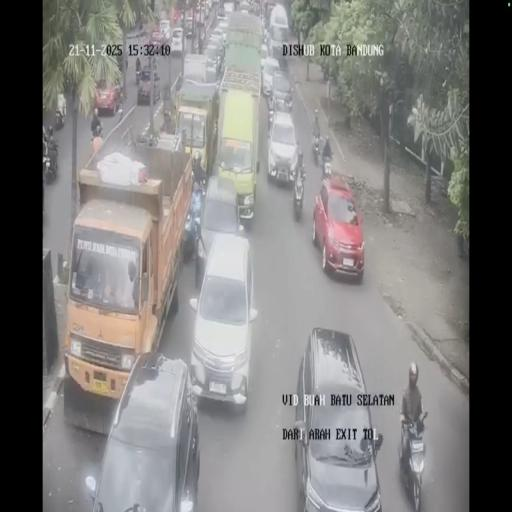car: (90, 354, 199, 509), (294, 328, 382, 507), (314, 174, 364, 280), (196, 173, 244, 277), (267, 112, 299, 188), (136, 66, 161, 105), (262, 56, 280, 98), (203, 41, 222, 80), (272, 90, 292, 117), (170, 27, 184, 55), (216, 17, 230, 43), (158, 18, 170, 40), (194, 9, 206, 27), (216, 4, 228, 20), (184, 14, 194, 32), (240, 0, 250, 13)
motorcycle: (398, 412, 426, 510), (292, 160, 305, 218), (43, 146, 57, 183), (321, 146, 333, 178), (311, 131, 321, 166), (54, 105, 65, 130), (115, 82, 123, 109), (268, 104, 274, 133), (162, 37, 170, 56), (135, 66, 142, 84), (125, 53, 128, 71)
truck: (172, 65, 220, 178), (222, 9, 263, 81), (268, 3, 290, 58)
